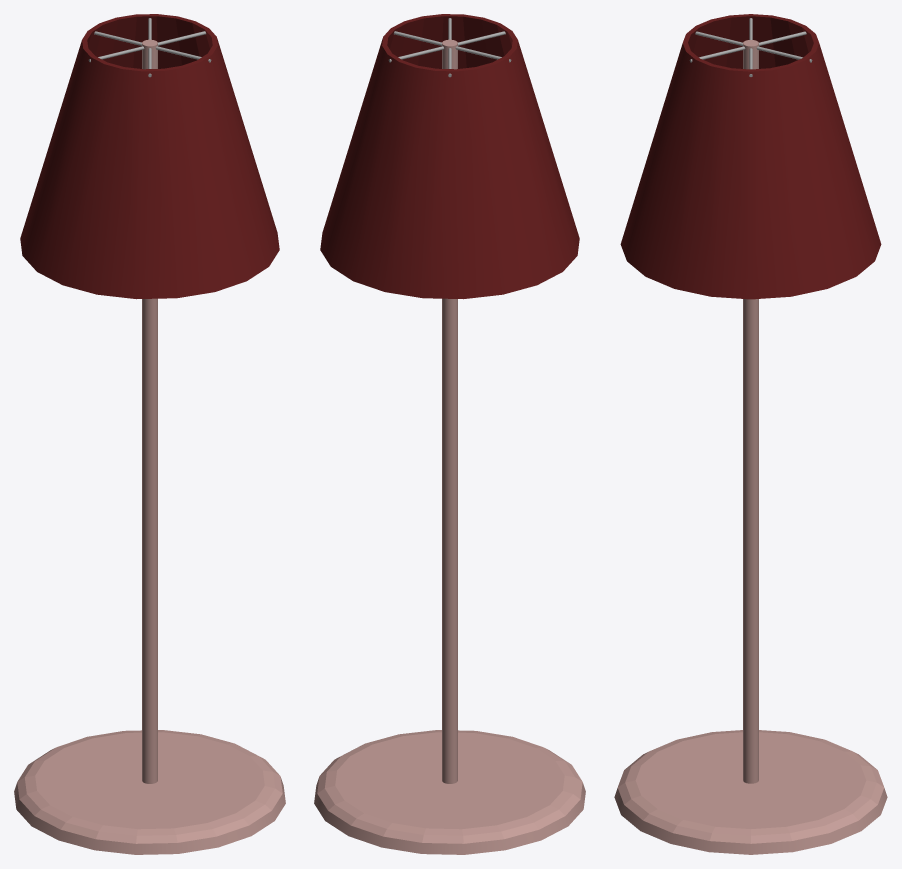
File: Stehlampe.fbx
3 views of the same model, side by side, from view 1: azimuth 30°, elevation 25°; view 2: azimuth 150°, elevation 25°; view 3: azimuth 270°, elevation 25° (orthographic).
Parts seen in each view (by area): view 1: pCylinder8; view 2: pCylinder8; view 3: pCylinder8.
Part boxes in pixels (x1,y1,x2,y2): pCylinder8: (14, 14, 285, 854); pCylinder8: (314, 14, 585, 854); pCylinder8: (614, 14, 887, 854).
Size of the model in its own units: 74.87 by 228 by 74.87.
